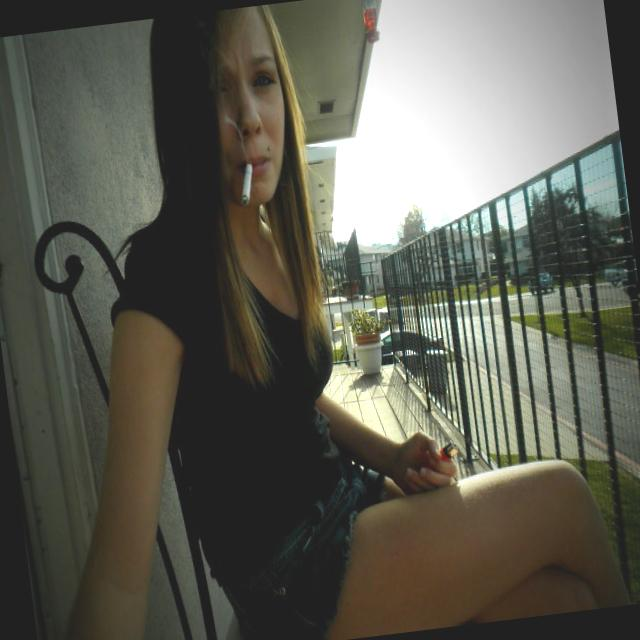cigarette: (232, 156, 262, 212)
